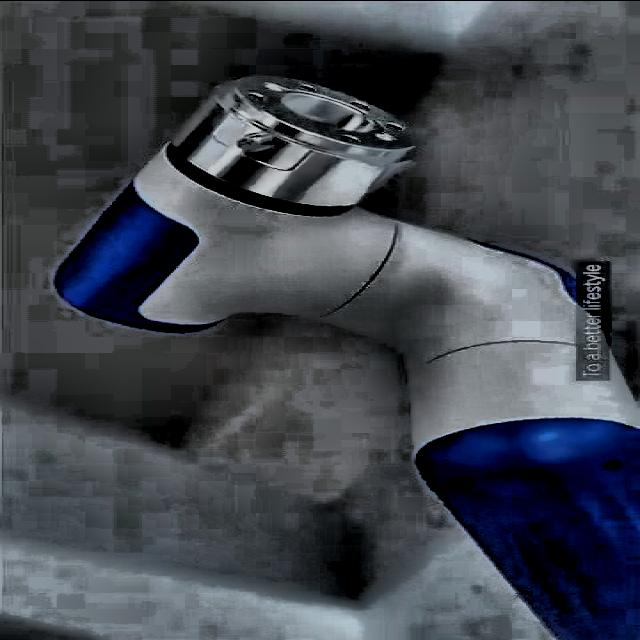robot: (48, 74, 636, 640)
